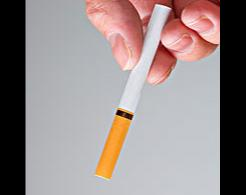Cigarette: (94, 2, 172, 179)
